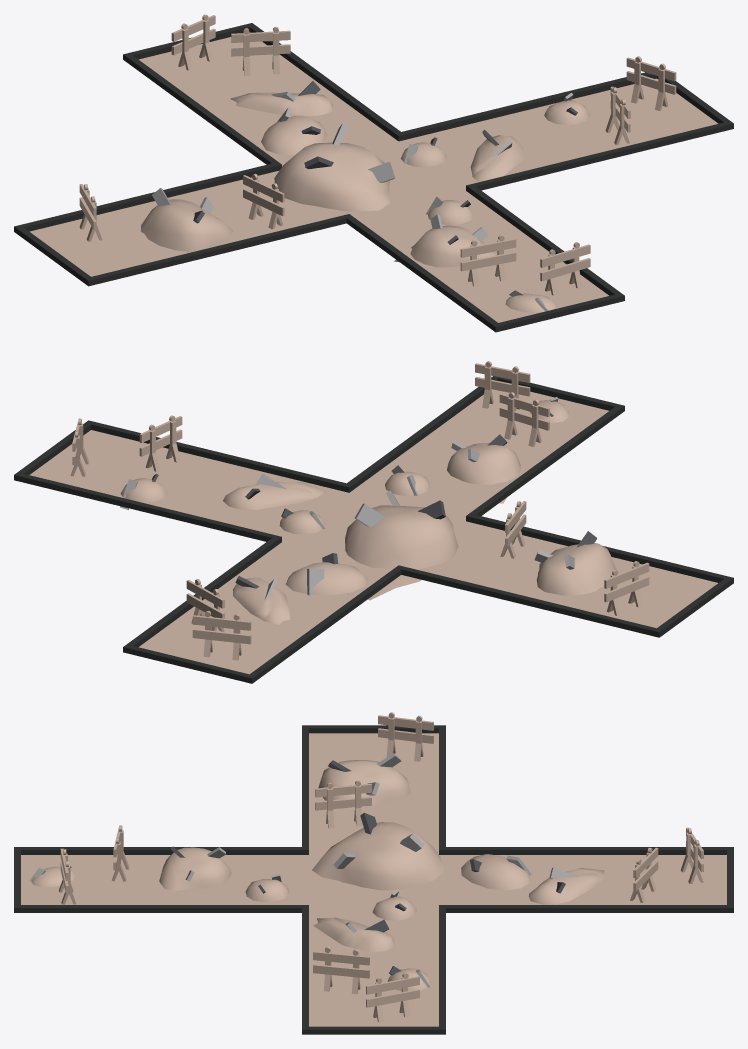
The model's file is Zone_Travau.fbx.
The picture shows the model from 3 angles, top to bottom: view 1: azimuth 30°, elevation 25°; view 2: azimuth 150°, elevation 25°; view 3: azimuth 270°, elevation 25°; orthographic projection. The views are drawn at different scales.
Parts seen in each view (by area): view 1: Zone_Travau; view 2: Zone_Travau; view 3: Zone_Travau.
Boxes of the visible parts, x1,y1,x2,y2 form: Zone_Travau: (14, 14, 733, 332); Zone_Travau: (14, 361, 733, 683); Zone_Travau: (14, 712, 733, 1034).
Bounding box in the file's own units: 984 × 97.08 × 984.
